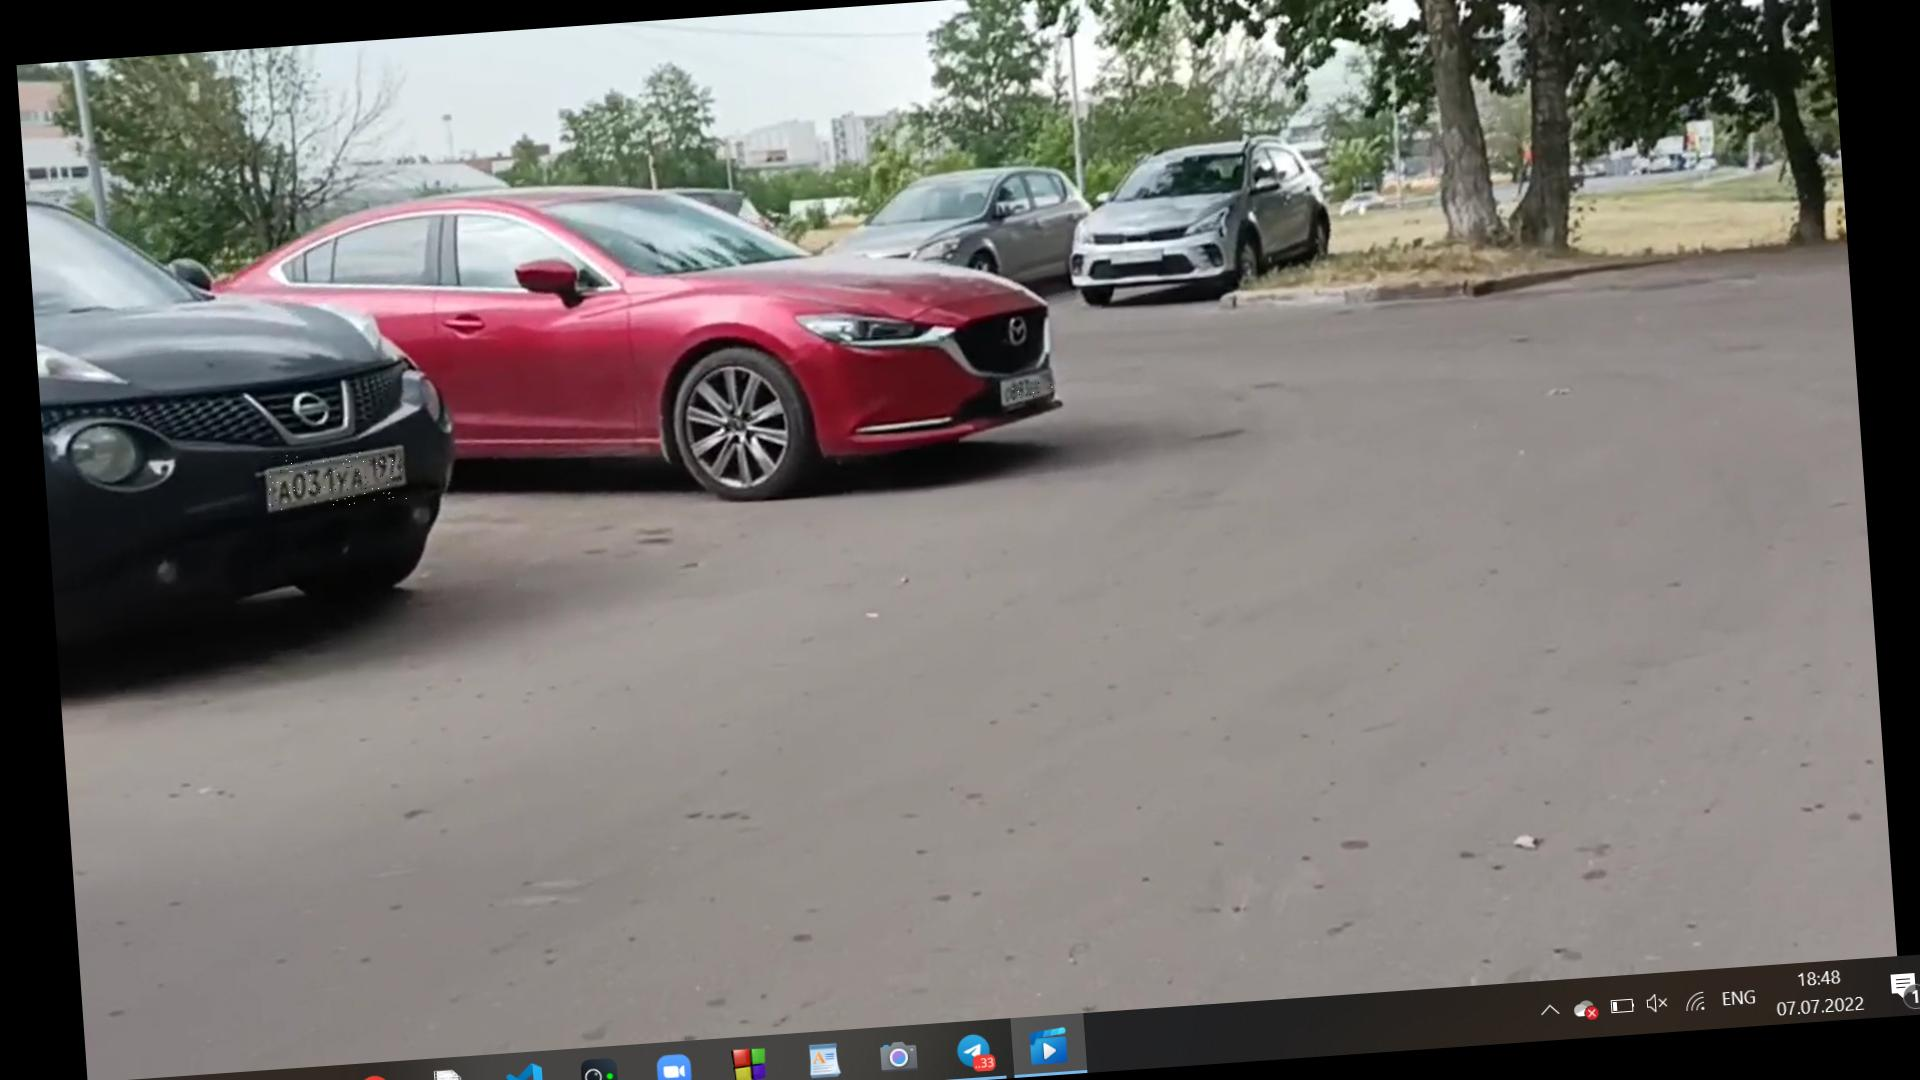plate: (265, 448, 409, 512), (1012, 383, 1055, 407)
